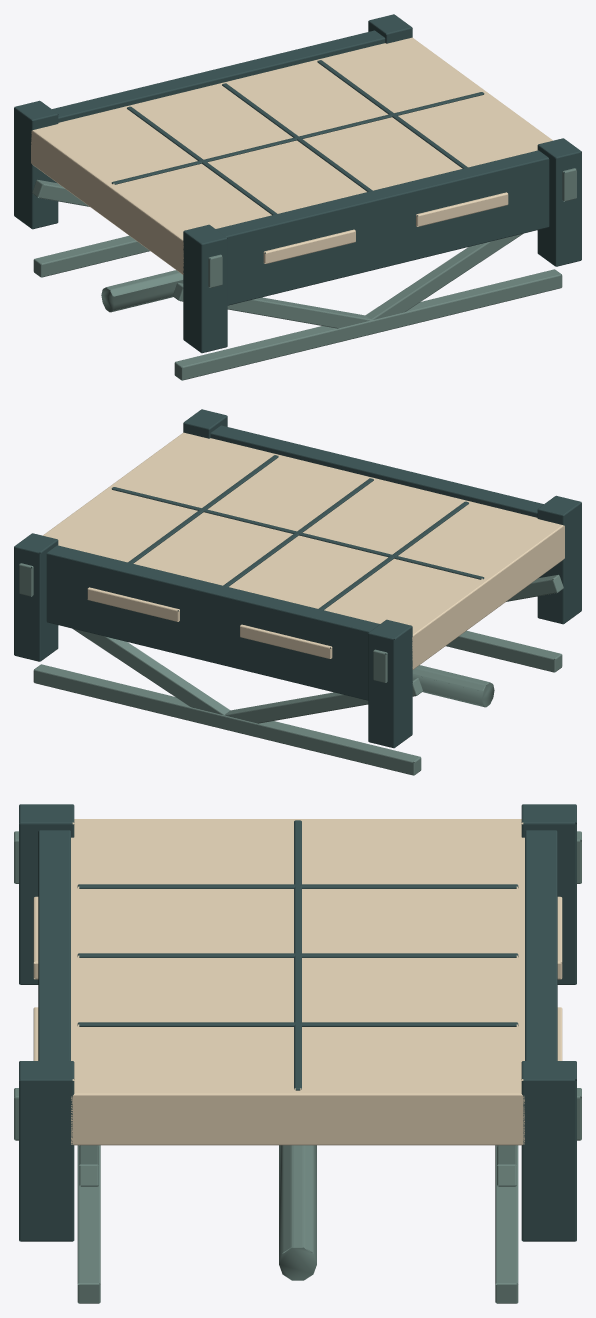
File: Deck_S.glb
The picture shows the model from 3 angles, top to bottom: view 1: azimuth 30°, elevation 25°; view 2: azimuth 150°, elevation 25°; view 3: azimuth 270°, elevation 25°; orthographic projection. The views are drawn at different scales.
Visible parts, largest first — view 1: Deck_S; view 2: Deck_S; view 3: Deck_S.
Boxes of the visible parts, x1,y1,x2,y2 form: Deck_S: (14,14,581,380); Deck_S: (14,409,581,775); Deck_S: (14,804,581,1303).
Size of the model in its own units: 4.04 by 1.52 by 3.48.
